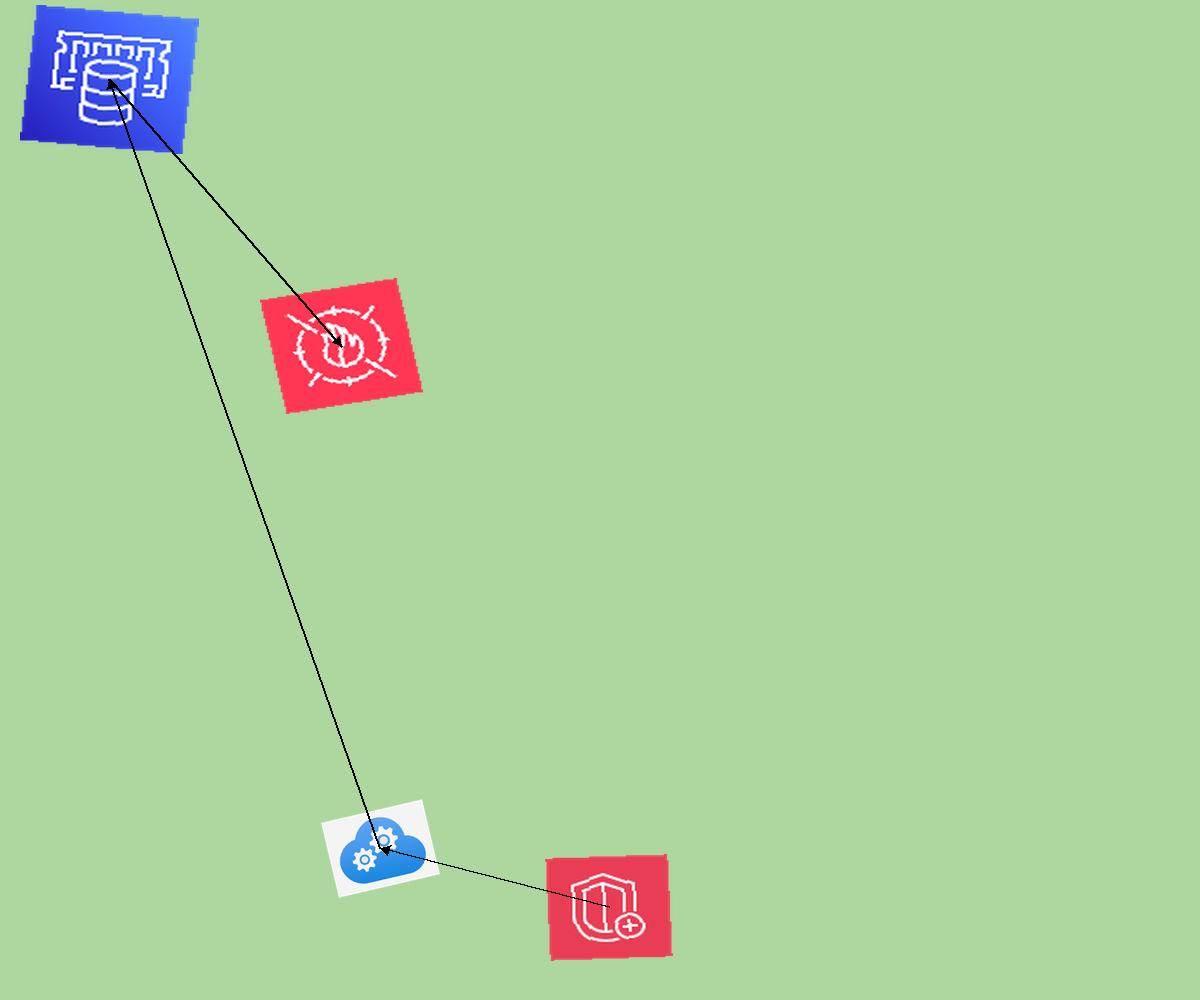AWS-ElastiCache: (20, 5, 199, 154)
AWS-Shield: (545, 854, 673, 961)
AWS-WAF: (260, 278, 423, 414)
Azure_cloud_services: (321, 799, 440, 898)
